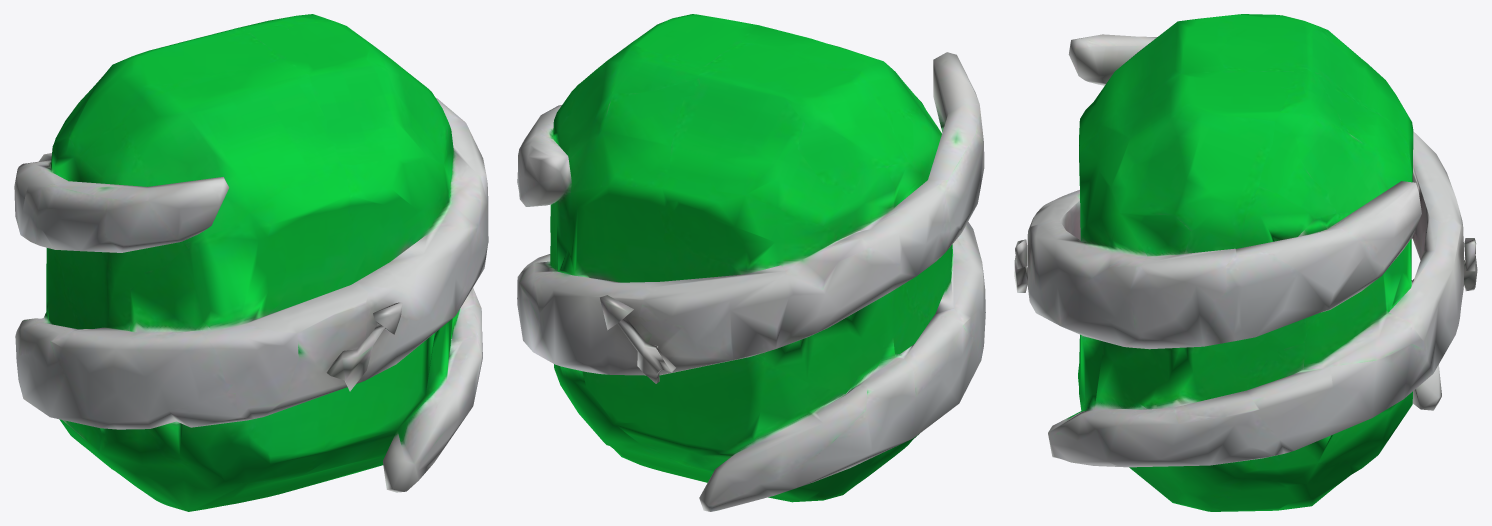
Rendered from gem_ranger-BiR3r46m.glb.
3 views of the same model, side by side, from view 1: azimuth 30°, elevation 25°; view 2: azimuth 150°, elevation 25°; view 3: azimuth 270°, elevation 25° (orthographic). The views are drawn at different scales.
Visible parts, largest first — view 1: tripo_node_beadefef-6ca3-472f-9847-f02a94870be6; view 2: tripo_node_beadefef-6ca3-472f-9847-f02a94870be6; view 3: tripo_node_beadefef-6ca3-472f-9847-f02a94870be6.
Part boxes in pixels (x1,y1,x2,y2): tripo_node_beadefef-6ca3-472f-9847-f02a94870be6: (14,14,488,511); tripo_node_beadefef-6ca3-472f-9847-f02a94870be6: (517,14,985,511); tripo_node_beadefef-6ca3-472f-9847-f02a94870be6: (1014,14,1477,511).
Size of the model in its own units: 1 by 0.9422 by 0.9771.
Materials: 1 (1 with a texture image).
